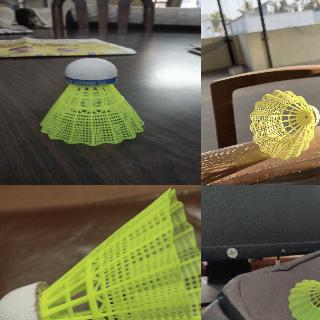shuttlecock: (0, 186, 200, 319), (41, 58, 144, 146), (250, 89, 318, 159), (289, 279, 319, 319)
